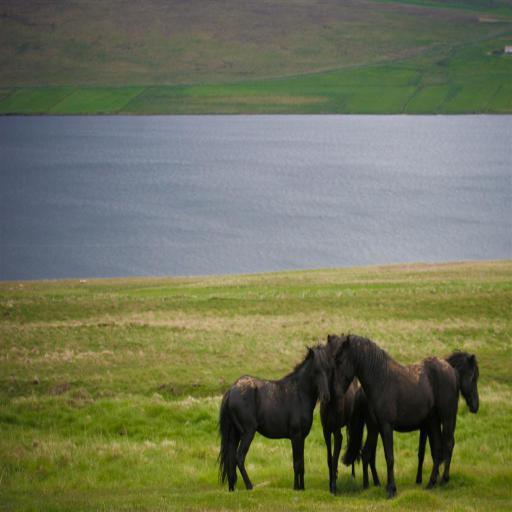horse: (331, 332, 459, 498), (338, 342, 480, 490), (212, 339, 334, 491), (318, 331, 359, 494)
